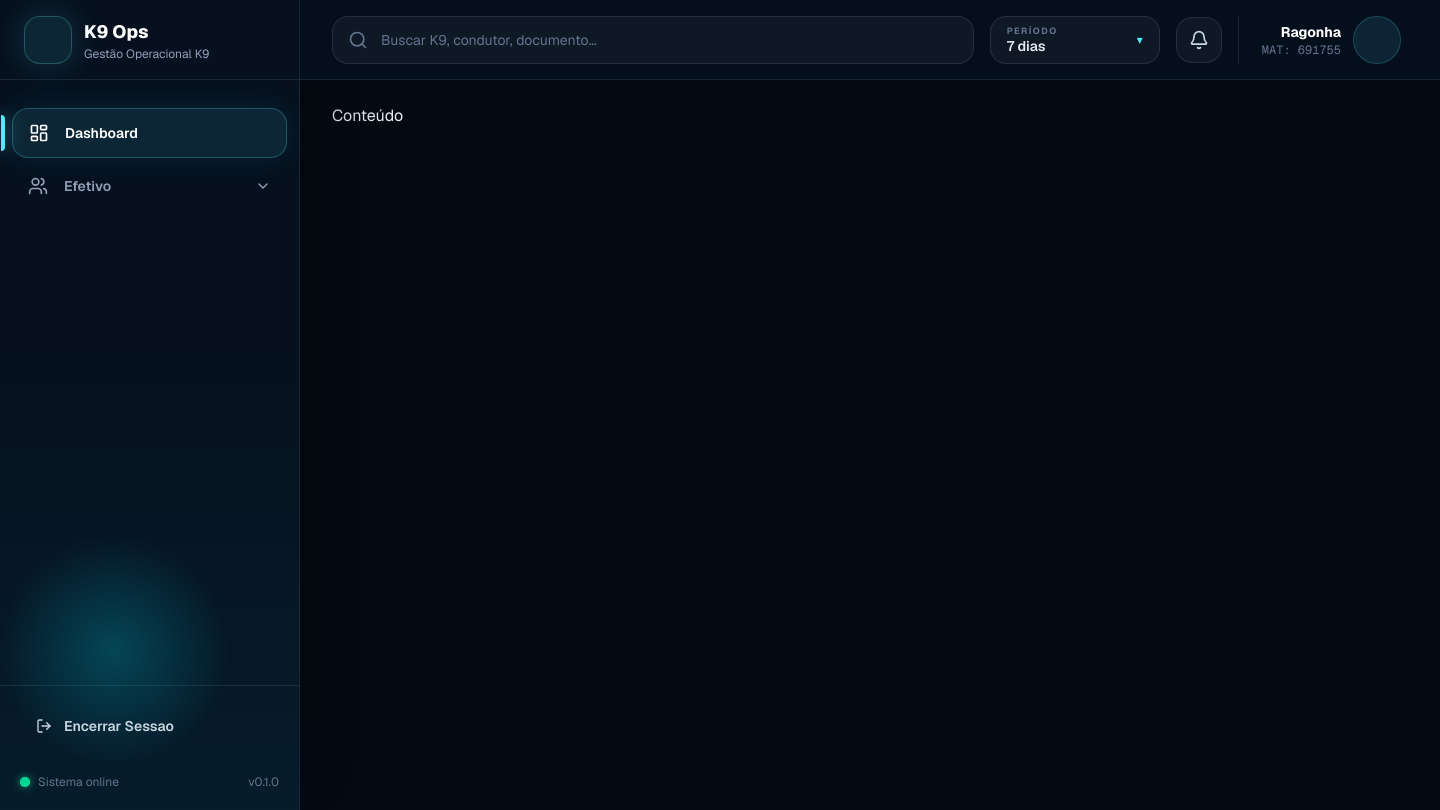
it: permissão por filho › esconde filhos sem permissão de visualização
This screenshot has width=1440, height=810.
Click the button "Efetivo" at (88, 186), box top-left (12, 162), bottom-right (287, 210)
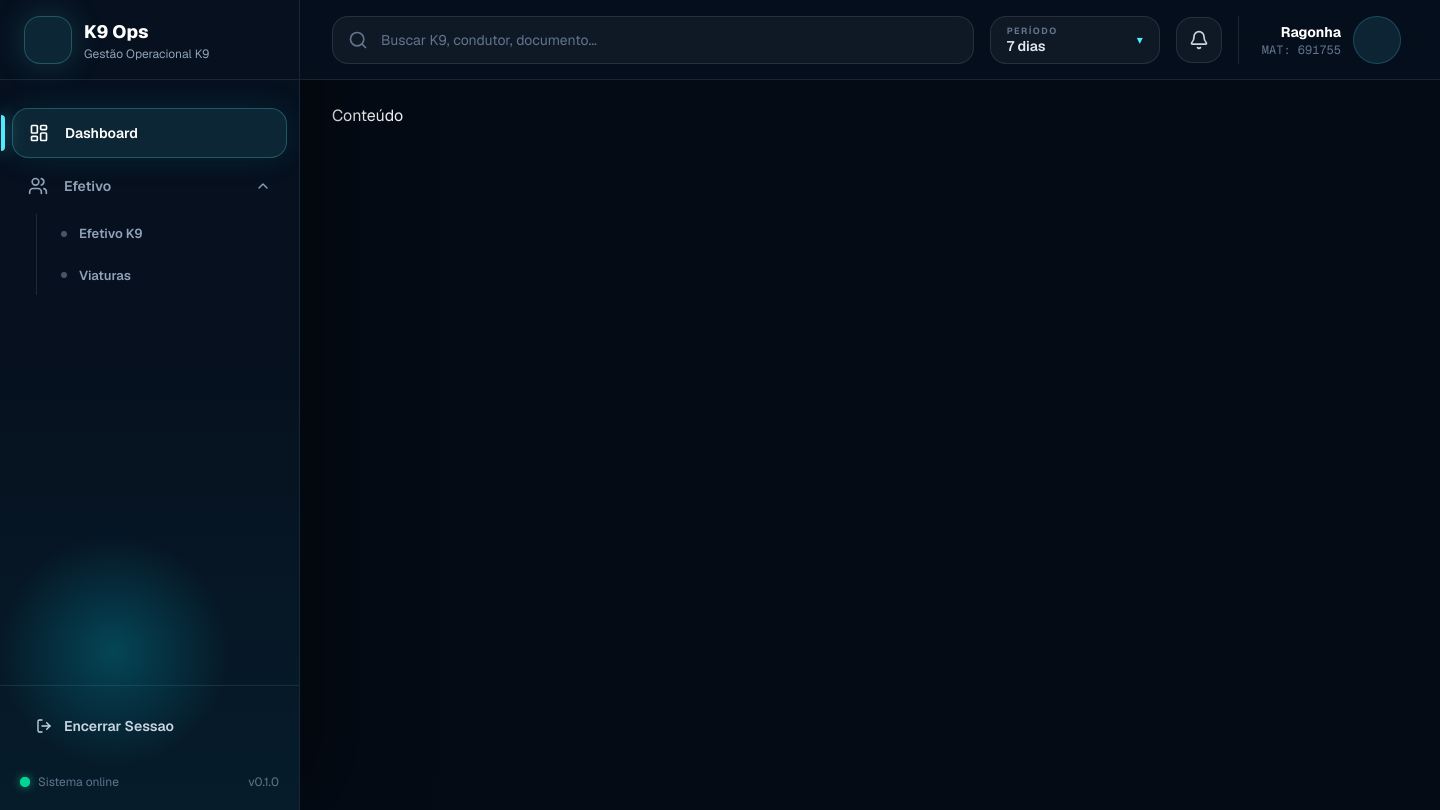
Expected: the link "Efetivo K9" is shown, top-left (61, 225), bottom-right (143, 242)
Expected: the link "Viaturas" is shown, top-left (61, 266), bottom-right (131, 284)
